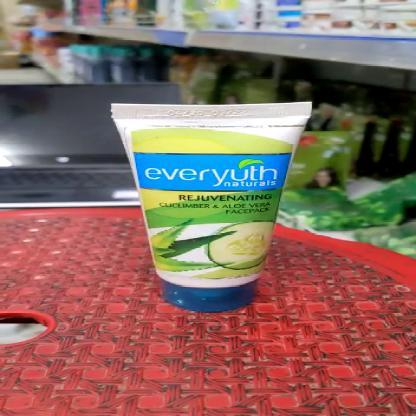EY RJ CUCUMBER ALOEVERA FACEPAK50G: (117, 106, 303, 310)
